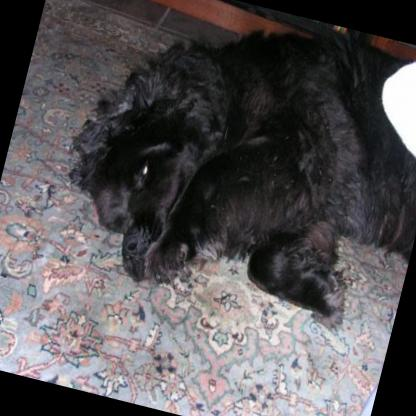Newfoundland: (45, 0, 416, 339)
